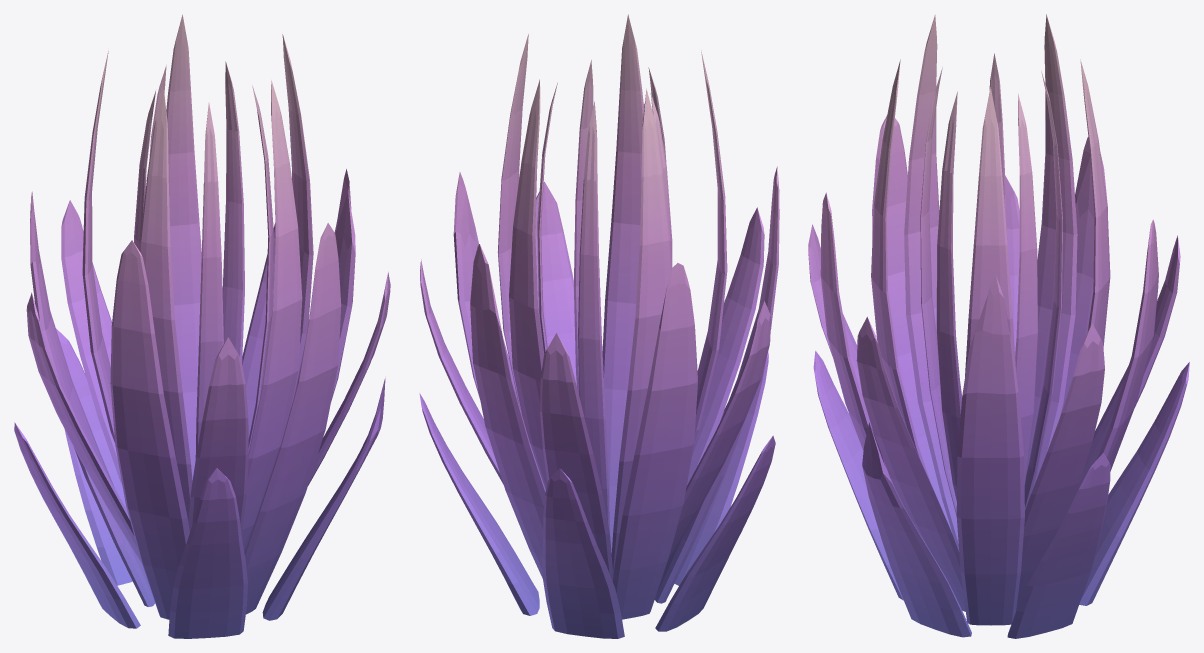
File: nylium.fbx
The picture shows the model from 3 angles, left to right: view 1: azimuth 30°, elevation 25°; view 2: azimuth 150°, elevation 25°; view 3: azimuth 270°, elevation 25°; orthographic projection. The views are drawn at different scales.
Visible parts, largest first — view 1: nylium.001; view 2: nylium.001; view 3: nylium.001.
Boxes of the visible parts, x1=… form: nylium.001: x1=14, y1=14, x2=390, y2=638; nylium.001: x1=419, y1=14, x2=779, y2=638; nylium.001: x1=808, y1=14, x2=1189, y2=638.
Bounding box in the file's own units: 71.27 × 115 × 71.64.
1 material, 1 textured.
